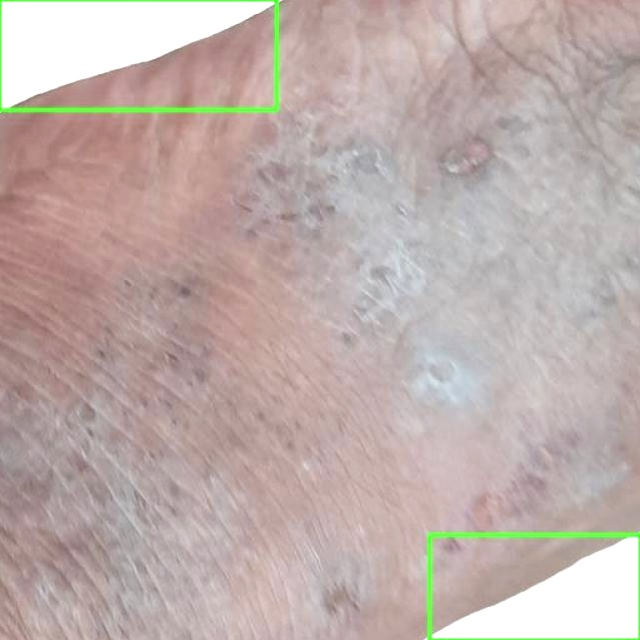Contact Dermatitis: (0, 0, 276, 110), (429, 535, 639, 639)
